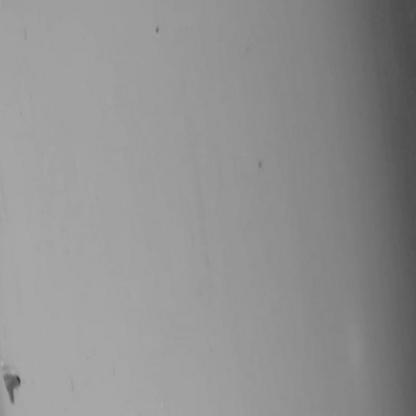kongdong: (2, 363, 31, 405)
